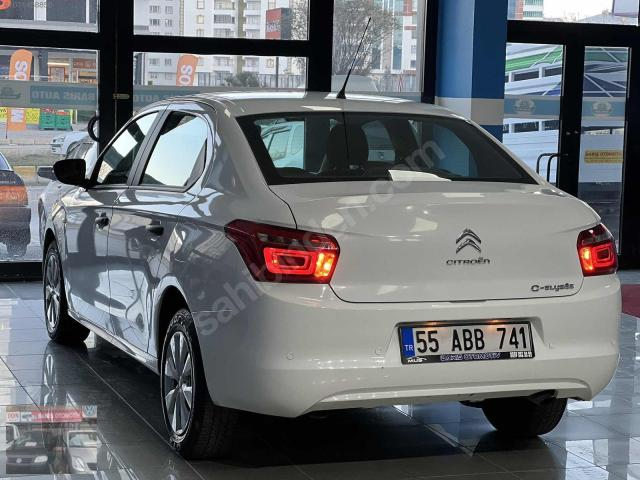plaka: (399, 322, 535, 364)
